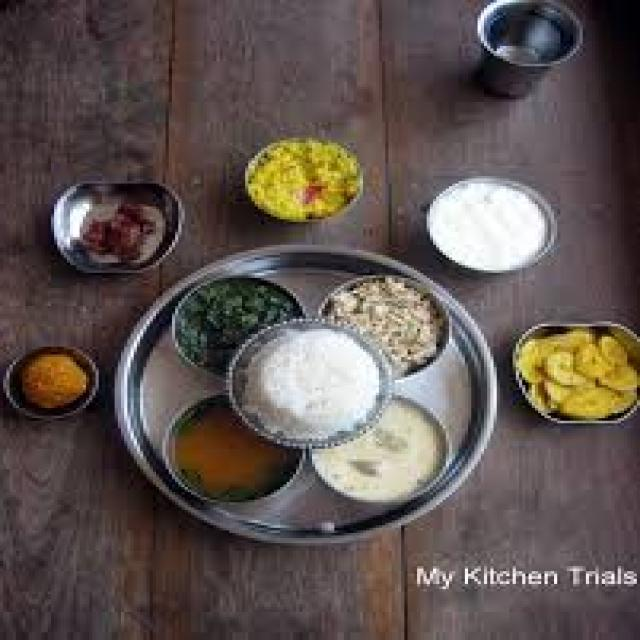curd: (416, 172, 563, 281)
dal: (318, 410, 459, 504)
pickle: (66, 187, 176, 272)
rice: (225, 320, 395, 450), (329, 274, 457, 371)
sambar-rasam: (156, 401, 298, 510)
